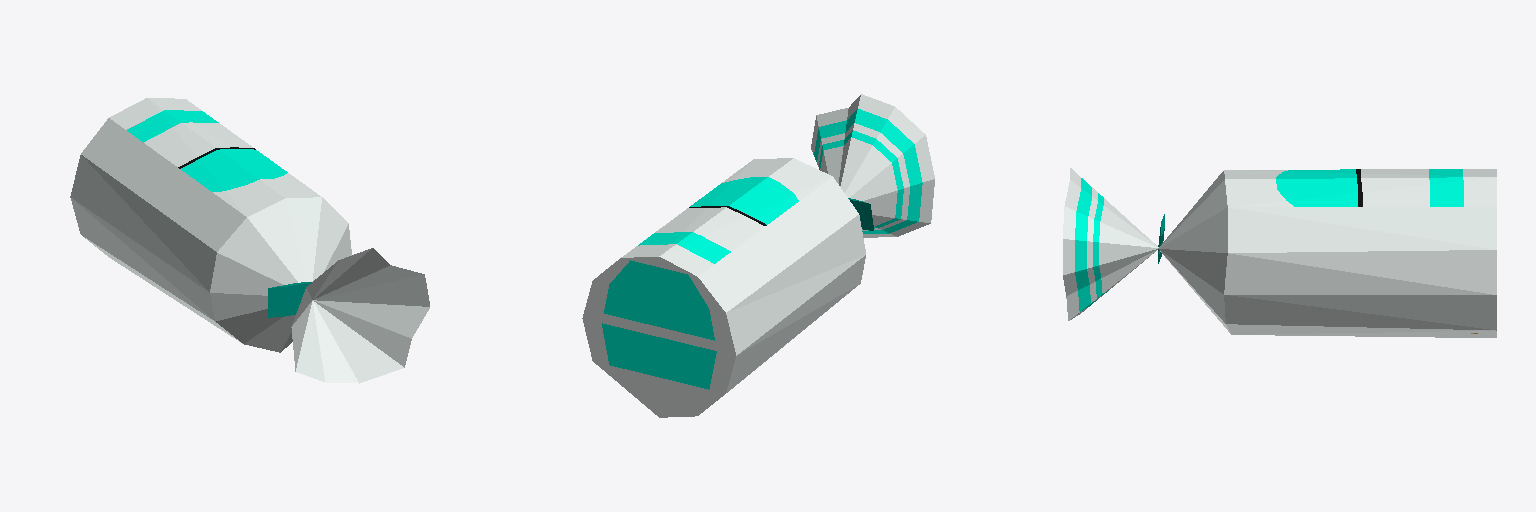
Rendered from RosquillasVariante.obj.
3 views of the same model, side by side, from view 1: azimuth 30°, elevation 25°; view 2: azimuth 150°, elevation 25°; view 3: azimuth 270°, elevation 25° (orthographic).
Visible parts, largest first — view 1: group[number redacted], group[number redacted], group[number redacted]; view 2: group[number redacted], group[number redacted]; view 3: group[number redacted], group[number redacted].
Boxes of the visible parts, x1=… form: group[number redacted]: x1=70, y1=98, x2=351, y2=352; group[number redacted]: x1=291, y1=248, x2=429, y2=383; group[number redacted]: x1=268, y1=282, x2=311, y2=317; group[number redacted]: x1=582, y1=158, x2=865, y2=417; group[number redacted]: x1=811, y1=94, x2=934, y2=237; group[number redacted]: x1=1158, y1=169, x2=1496, y2=337; group[number redacted]: x1=1063, y1=168, x2=1158, y2=320.
Bounding box in the file's own units: 1.32 × 1.34 × 3.22.